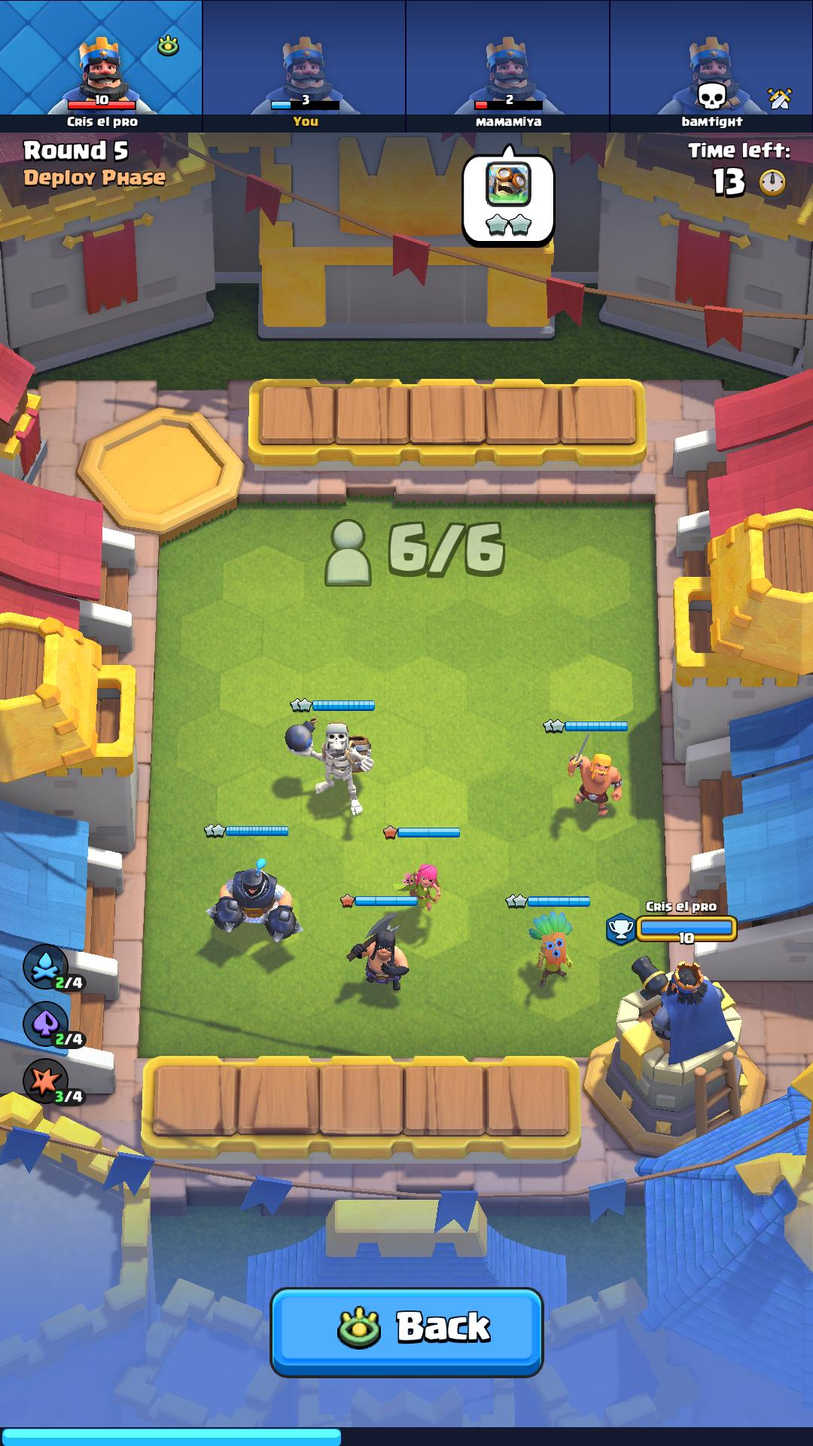archer: (387, 857, 445, 909)
barbarian: (554, 734, 629, 819)
dart: (518, 909, 577, 989)
executioner: (335, 910, 413, 994)
giant: (271, 710, 385, 820)
mega: (197, 853, 309, 948)
